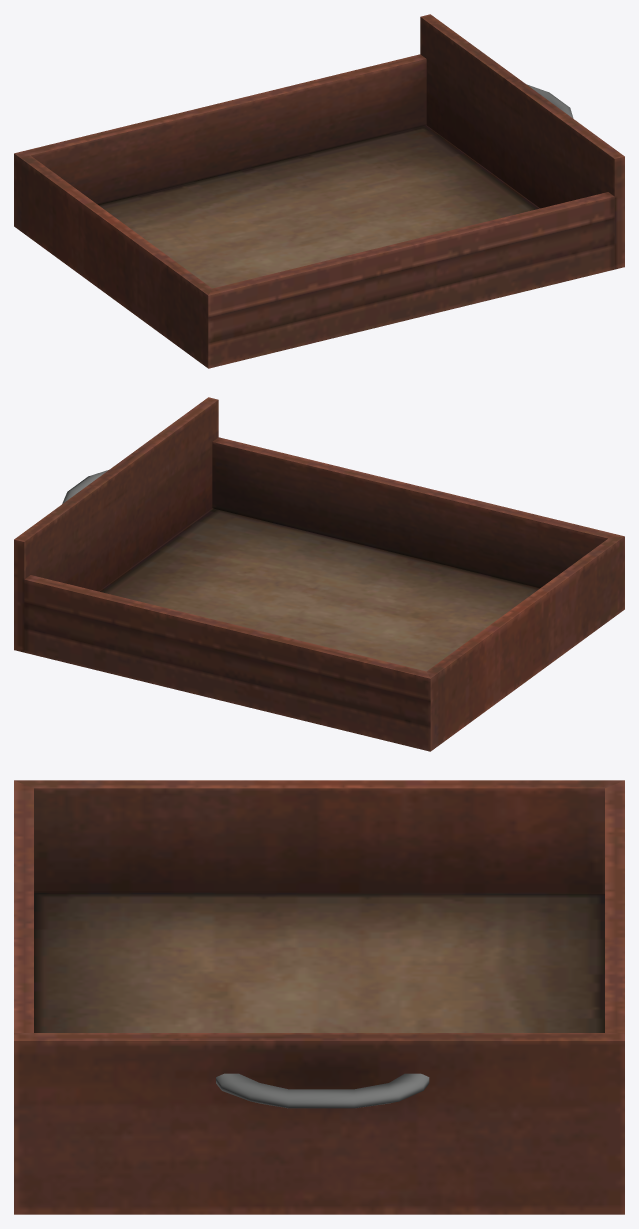
File: desk_reception02_small_box.dae
3 views of the same model, one above another, from view 1: azimuth 30°, elevation 25°; view 2: azimuth 150°, elevation 25°; view 3: azimuth 270°, elevation 25° (orthographic). The views are drawn at different scales.
Parts seen in each view (by area): view 1: polySurface1; view 2: polySurface1; view 3: polySurface1.
Boxes of the visible parts, x1=… form: polySurface1: x1=14, y1=14, x2=624, y2=368; polySurface1: x1=14, y1=397, x2=624, y2=751; polySurface1: x1=14, y1=780, x2=624, y2=1214.
Bounding box in the file's own units: 0.9842 × 0.2314 × 0.7378.
